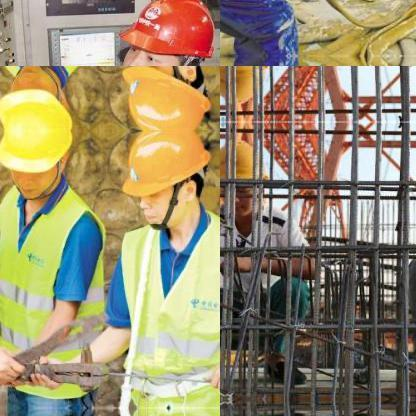Helmet: (112, 128, 210, 228), (111, 66, 213, 131), (114, 0, 215, 65), (0, 129, 77, 204), (0, 66, 79, 131), (220, 135, 273, 219), (220, 66, 275, 106)
